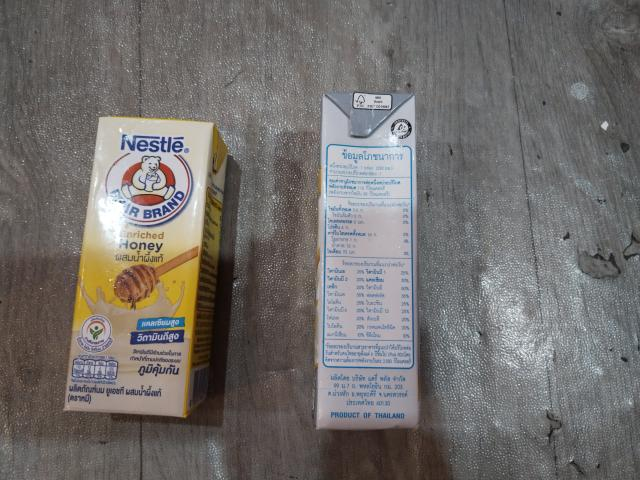drink_box: (54, 102, 243, 430), (309, 88, 430, 438)
